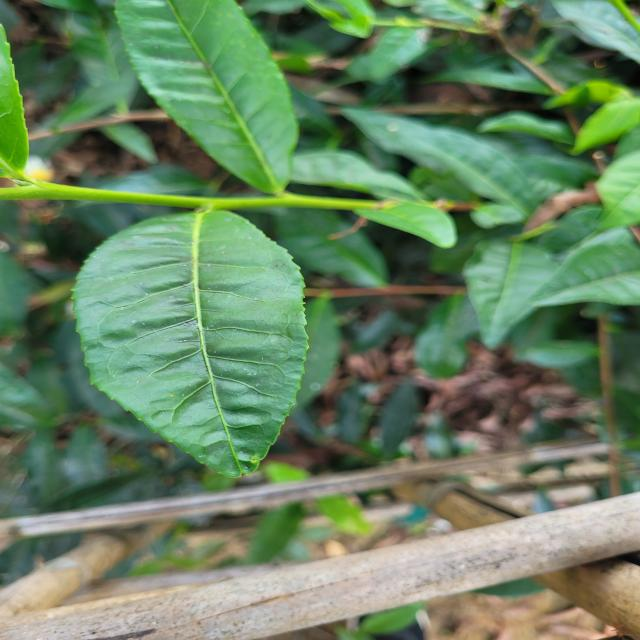Category D(7+ days, Not for Tea): (60, 194, 336, 483)
